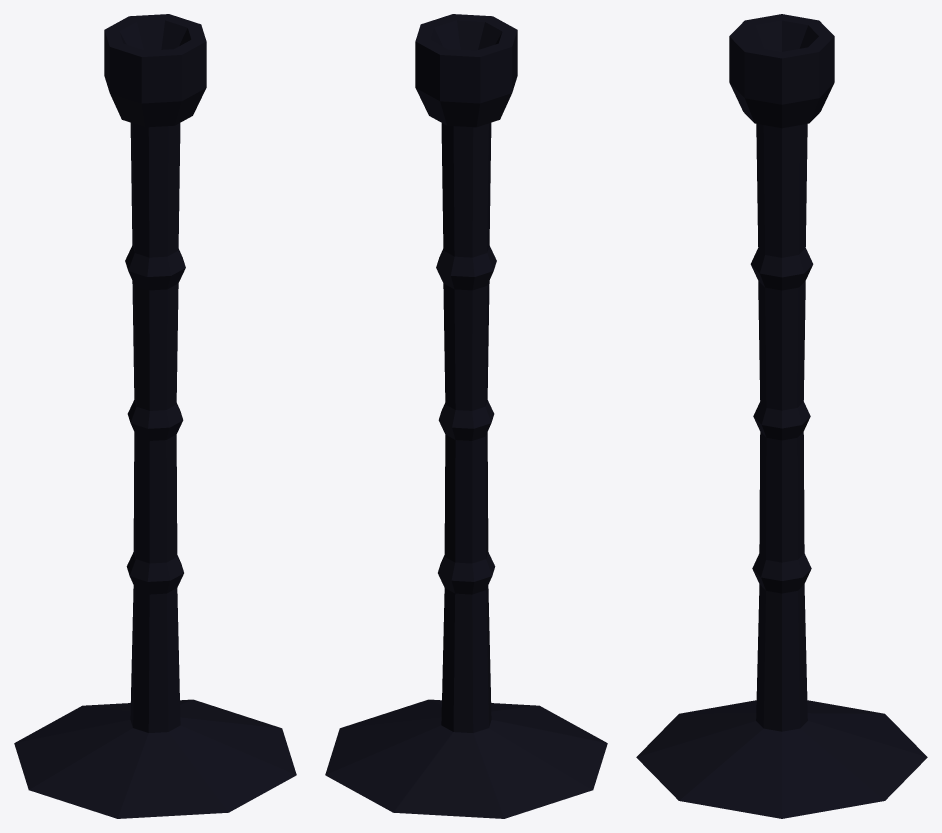
File: candlestick.glb
The picture shows the model from 3 angles, left to right: view 1: azimuth 30°, elevation 25°; view 2: azimuth 150°, elevation 25°; view 3: azimuth 270°, elevation 25°; orthographic projection.
Parts seen in each view (by area): view 1: candlestick; view 2: candlestick; view 3: candlestick.
Boxes of the visible parts, x1=… form: candlestick: x1=14, y1=14, x2=296, y2=818; candlestick: x1=325, y1=14, x2=607, y2=818; candlestick: x1=636, y1=14, x2=927, y2=818.
Bounding box in the file's own units: 0.507 × 1.38 × 0.507.
Materials: 1 (1 with a texture image).
